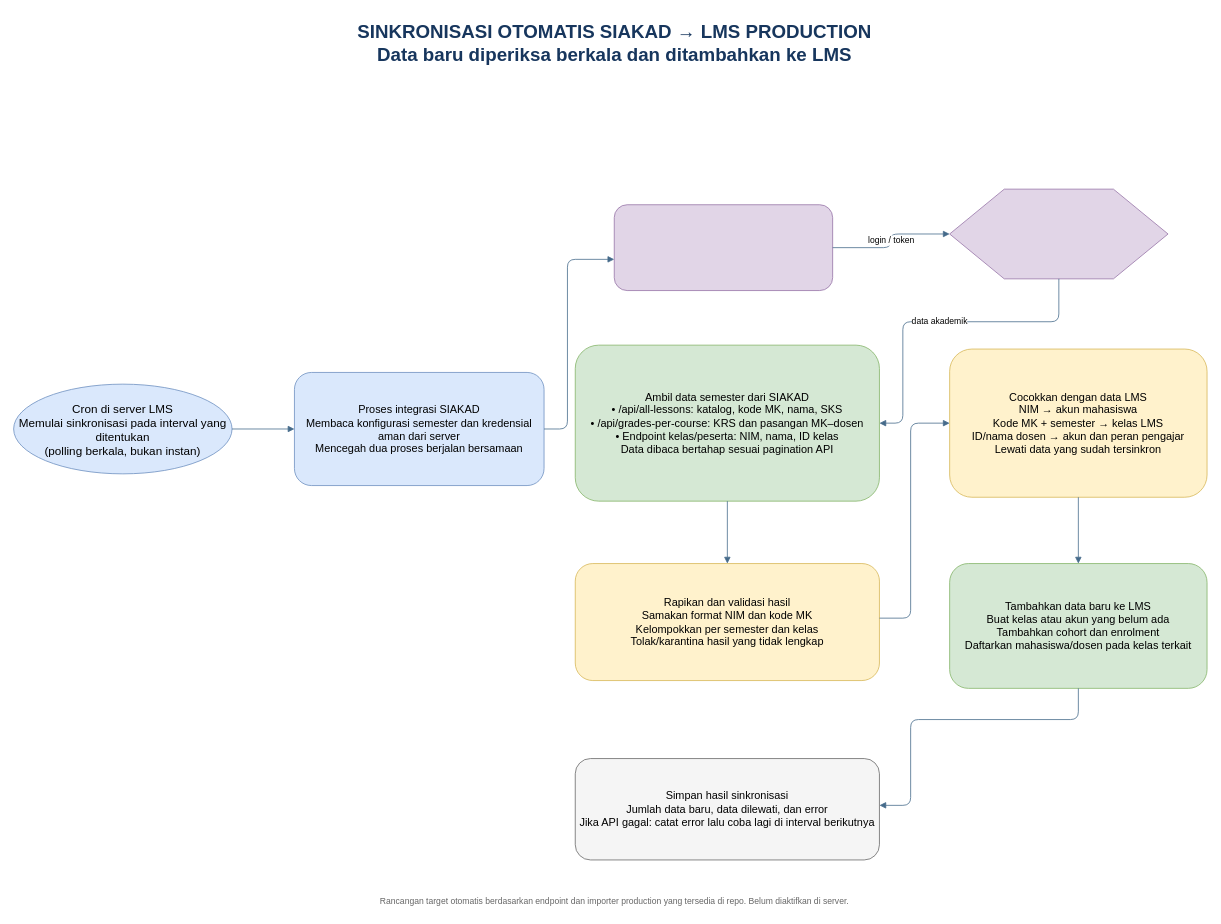
Image size: 1221x924. Some labels were removed from this diagram. The shapes that lost their labels are listed below. From the top down, each one's box as (x1, y1, x2, y2) in pixels, then its label:
(613, 204, 833, 291): Autentikasi ke SIAKAD POST /api/login Terima access token
(949, 188, 1168, 279): SIAKAD USH API akademik
